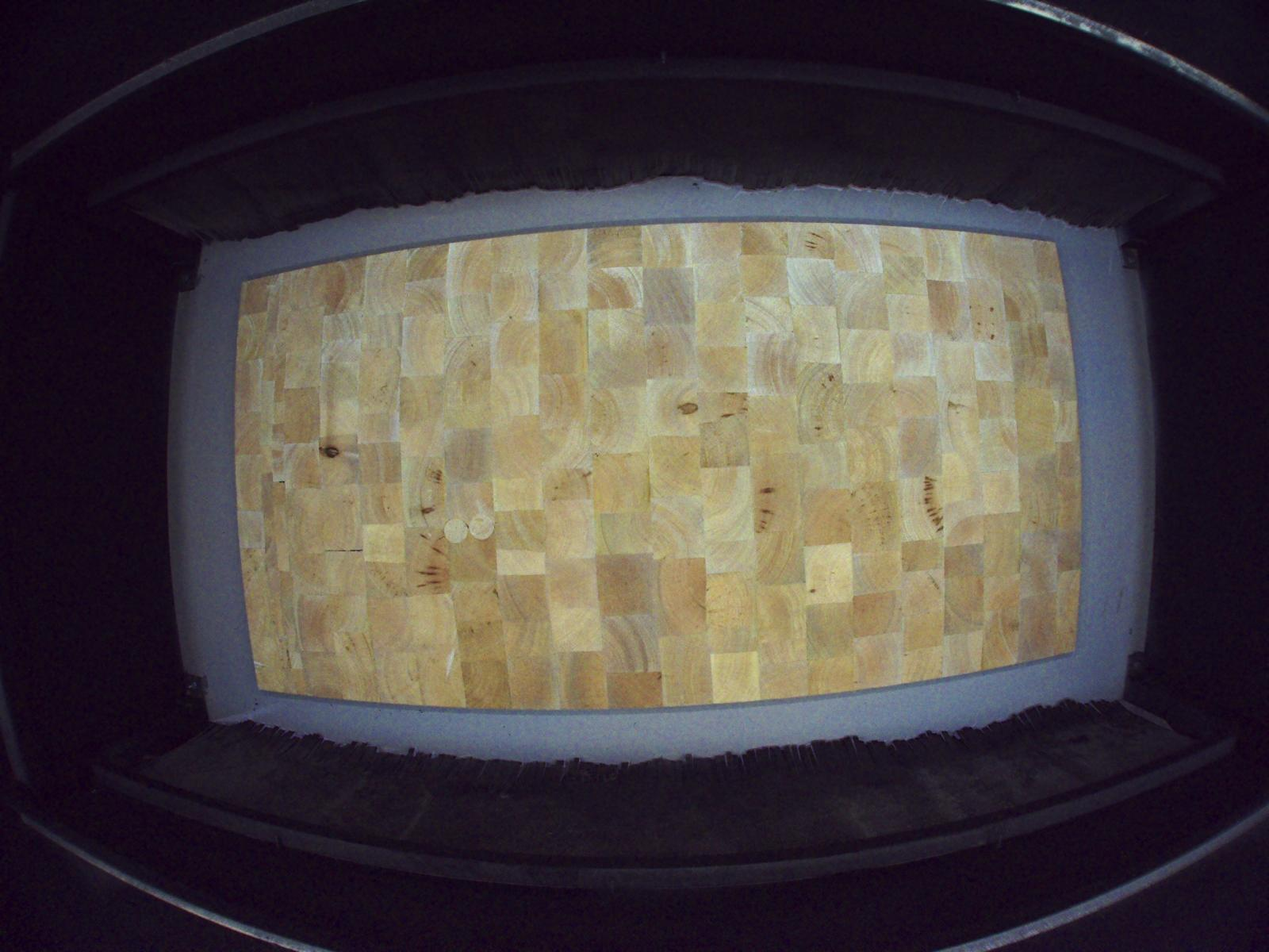nudillo: (318, 444, 340, 460)
